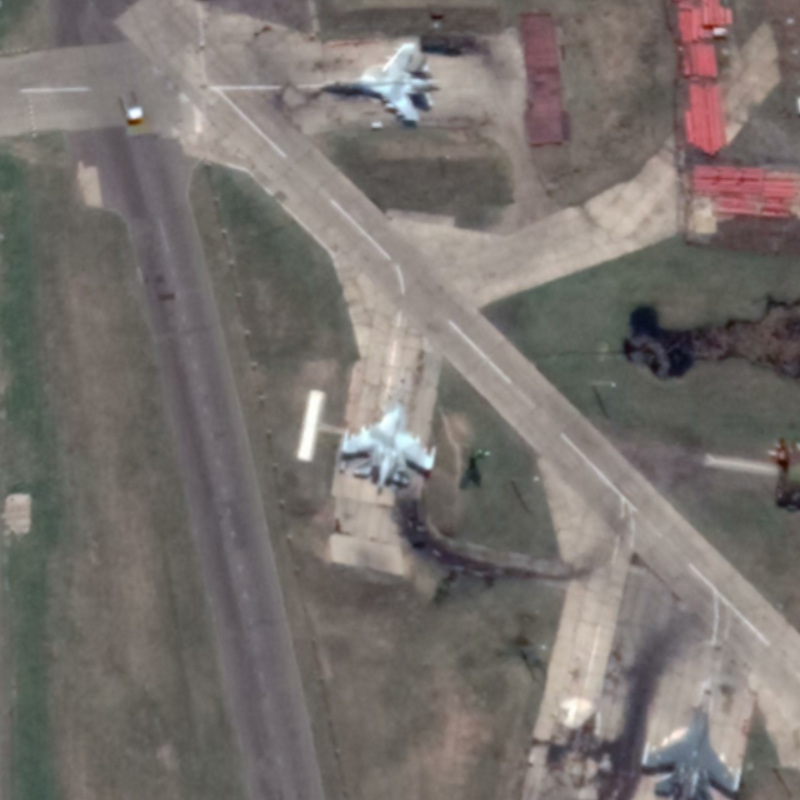A1: (337, 368, 439, 497), (638, 681, 745, 800), (315, 41, 442, 125)
